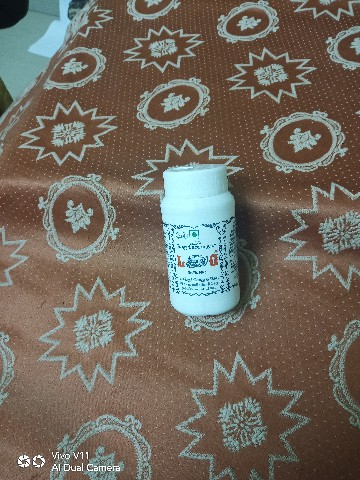lgasafoetidapowder large: (124, 140, 256, 340)
